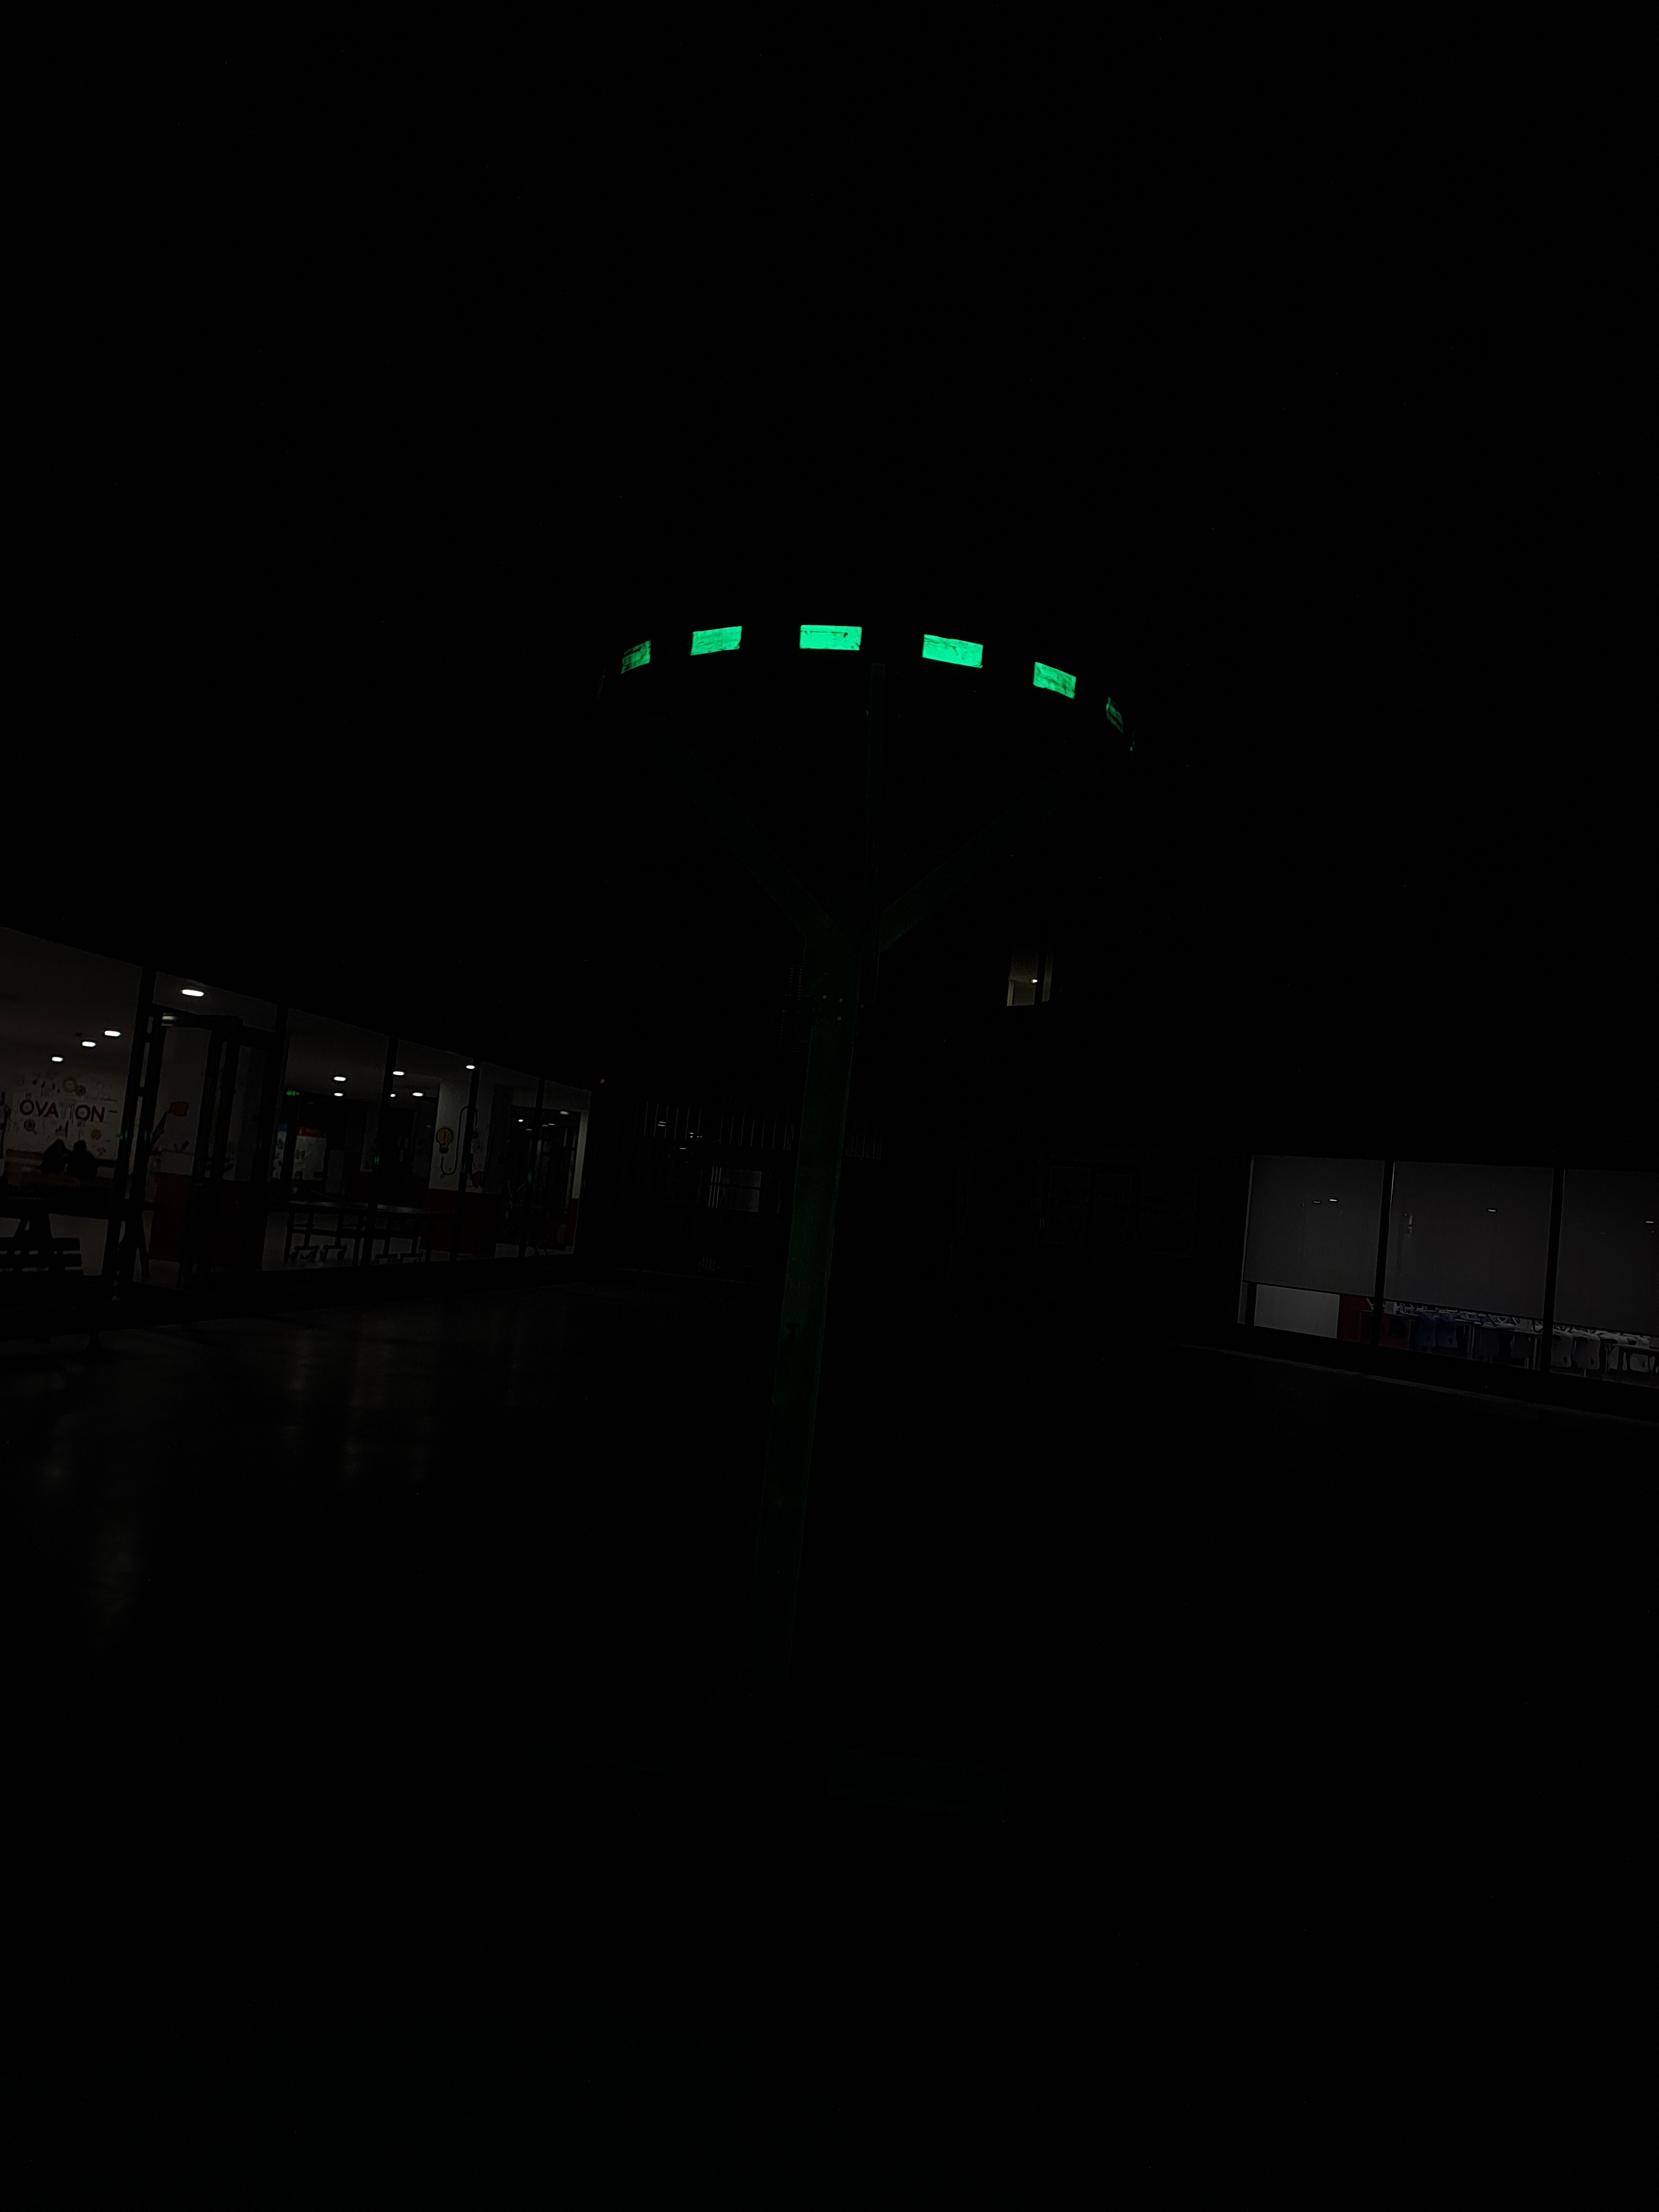hoop: (613, 615, 1080, 712)
